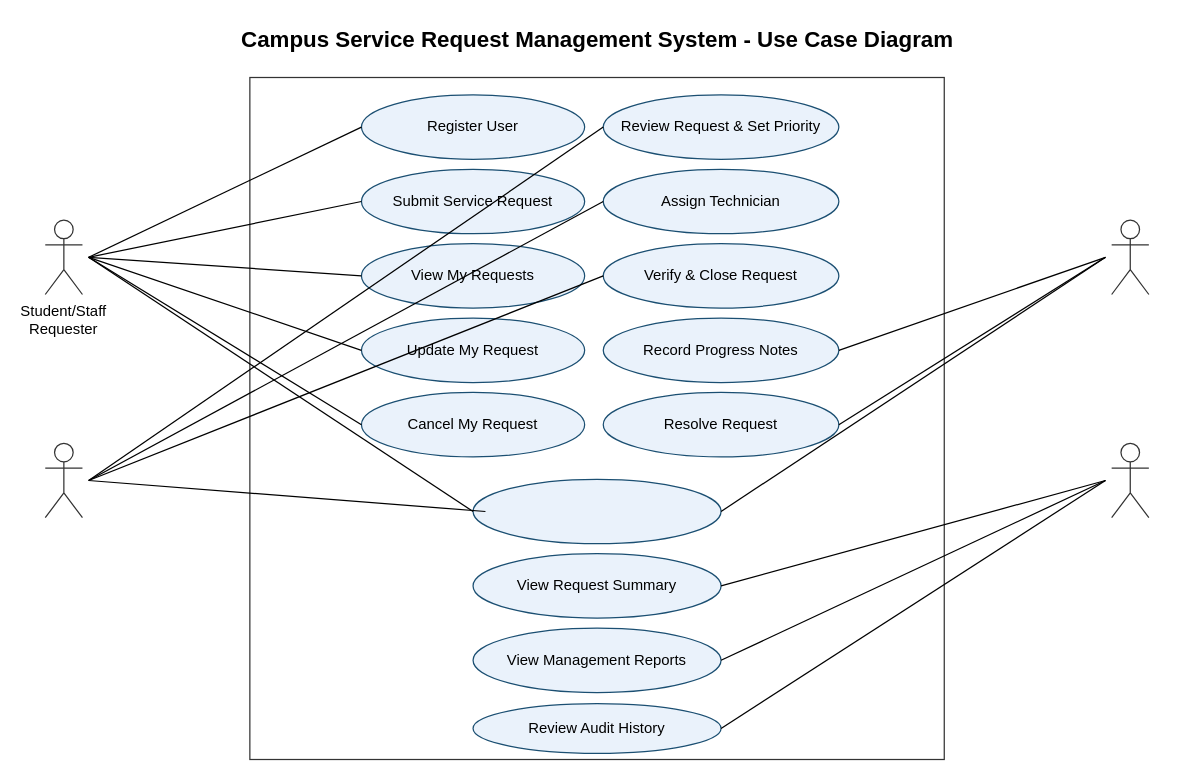
Some shapes in this 1195 by 781 pixel diagram are drawn without their labels. Here are the shapes that lost their labels. From the top down, the centre of each, then its label:
point 1129,256: Technician
point 63,480: Service Officer
point 1129,480: System Administrator
point 596,511: Search / Filter / Sort
